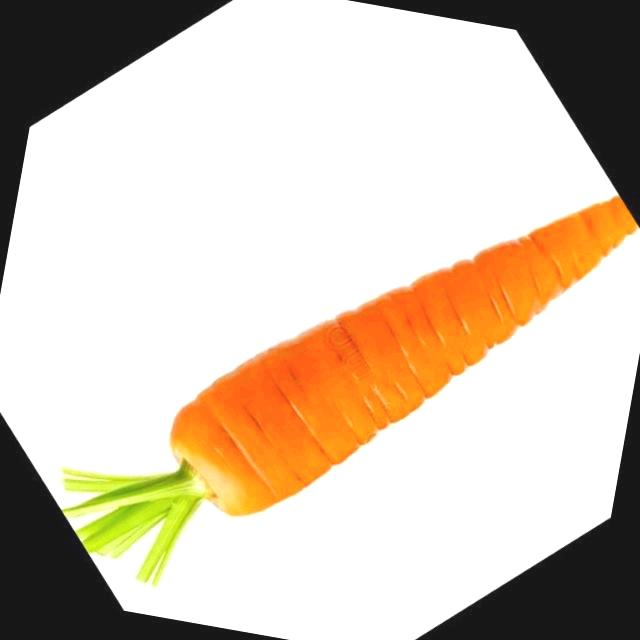carrot: (91, 58, 640, 633)
